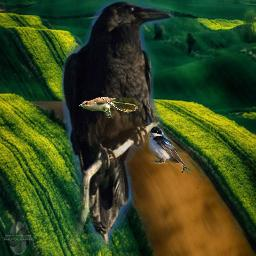Crow: (62, 0, 174, 251)
Cuckoo: (79, 97, 138, 118)
Swallow: (148, 126, 192, 175)
